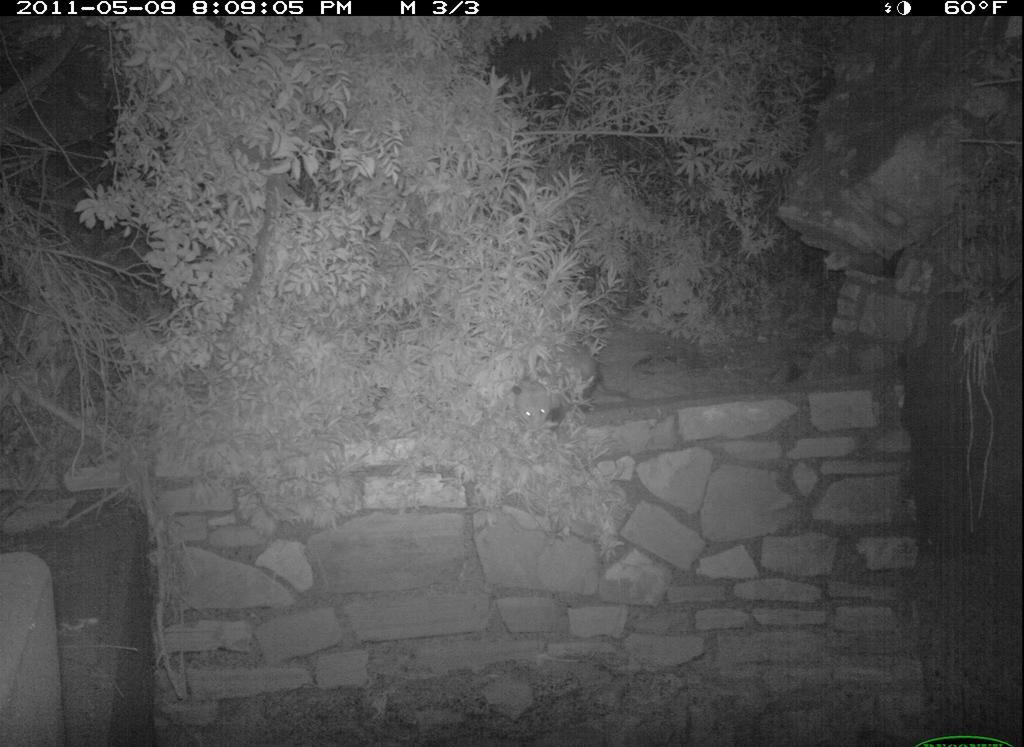opossum: (497, 337, 636, 439)
